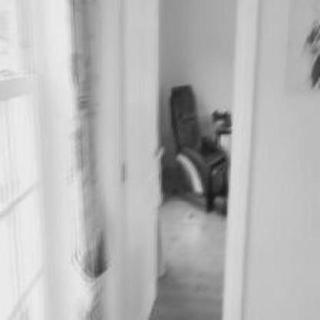other: (303, 19, 317, 82)
